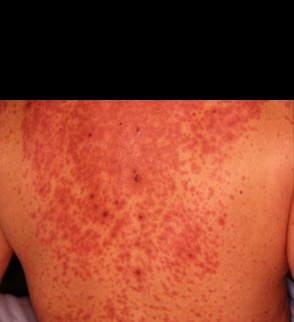SJS-TEN: (0, 98, 267, 321)
